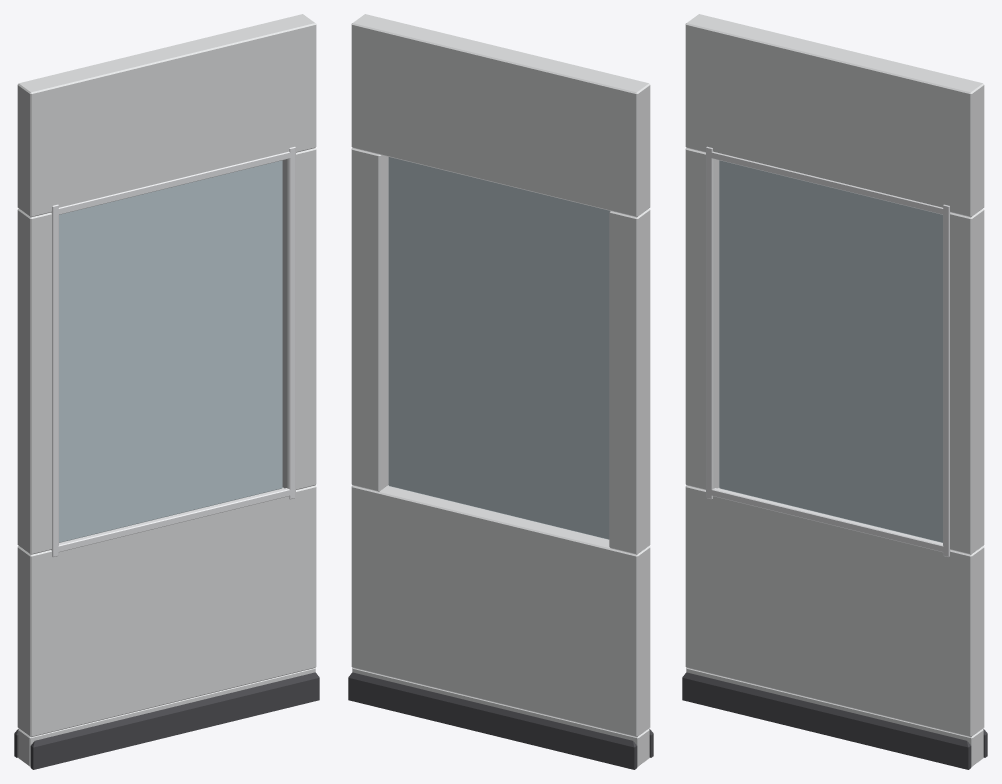
The model's file is police-station-and-detective-office-one-way-mirror-wal-9d16e169__29953.glb.
3 renders of one model, left to right at view 1: azimuth 30°, elevation 25°; view 2: azimuth 150°, elevation 25°; view 3: azimuth 330°, elevation 25°, orthographic.
Visible parts, largest first — view 1: one-way-mirror-wall-section; view 2: one-way-mirror-wall-section; view 3: one-way-mirror-wall-section.
Boxes of the visible parts, <box> form: one-way-mirror-wall-section: <box>14,14,319,769</box>; one-way-mirror-wall-section: <box>348,14,653,769</box>; one-way-mirror-wall-section: <box>682,14,987,769</box>.
Size of the model in its own units: 1.2 by 2.7 by 0.14.
